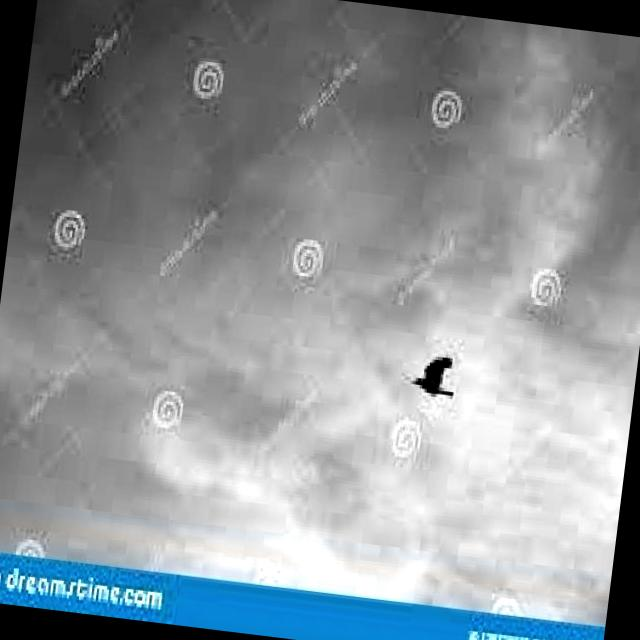bird: (406, 349, 464, 400)
